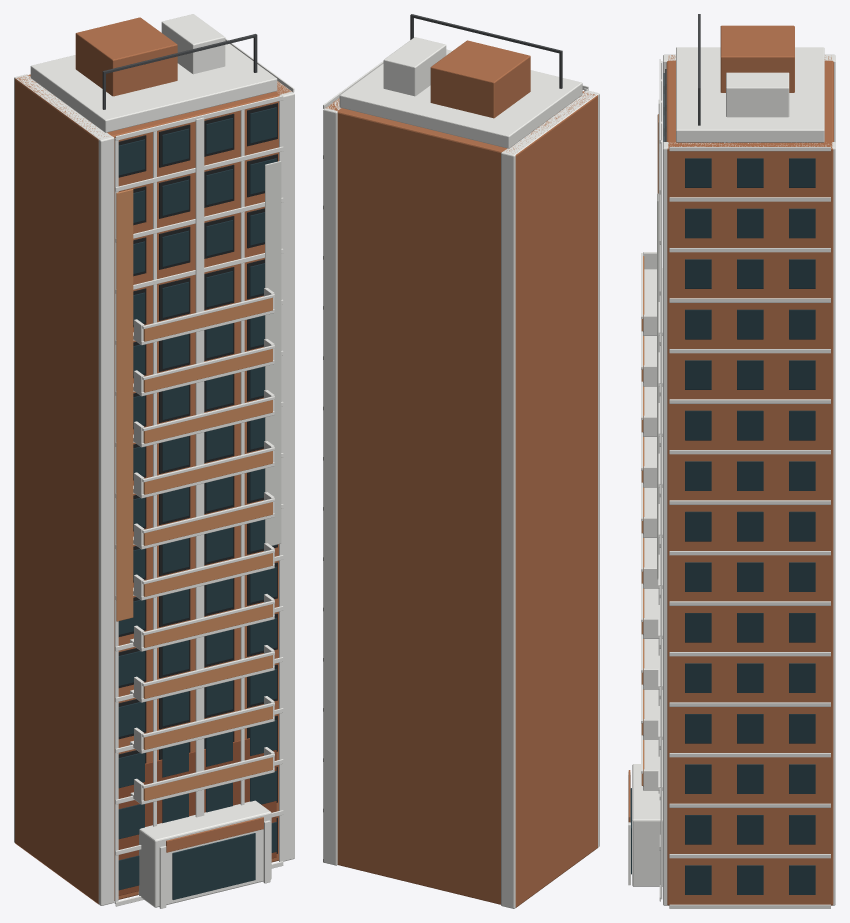
File: building3.fbx
3 renders of one model, left to right at view 1: azimuth 30°, elevation 25°; view 2: azimuth 150°, elevation 25°; view 3: azimuth 270°, elevation 25°, orthographic.
Visible parts, largest first — view 1: Main_Brick_Building, Left_White_Column, Right_White_Column, Roof_Base, Left_Brick_Feature, Roof_Brick_Room, Right_White_Feature, Entrance_White_Frame, Central_White_Spine, Entrance_Glass, Lower_Brick_Section, Vertical_White_Frame_0 (+60 smaller); view 2: Main_Brick_Building, Left_White_Column, Right_White_Column, Roof_Base, Roof_Brick_Room, Roof_White_Room, Roof_Frame_Top; view 3: Main_Brick_Building, Roof_Base, Right_White_Column, Roof_Brick_Room, Entrance_White_Frame, Roof_White_Room, Vertical_White_Frame_4, Right_Side_Window_11_0, Right_Side_Window_11_1, Right_Side_Window_11_2, Right_Side_Window_13_0, Right_Side_Window_13_1 (+69 smaller).
Part boxes in pixels (x1,y1,x2,y2): Main_Brick_Building: [15, 74, 291, 904]; Left_White_Column: [14, 74, 114, 905]; Right_White_Column: [277, 81, 294, 861]; Roof_Base: [30, 44, 277, 132]; Left_Brick_Feature: [116, 189, 133, 621]; Roof_Brick_Room: [75, 17, 177, 96]; Right_White_Feature: [265, 161, 281, 545]; Entrance_White_Frame: [138, 800, 271, 907]; Central_White_Spine: [195, 117, 204, 817]; Entrance_Glass: [172, 833, 255, 899]; Lower_Brick_Section: [118, 738, 276, 895]; Vertical_White_Frame_0: [114, 138, 118, 903]; Main_Brick_Building: [326, 91, 597, 907]; Left_White_Column: [501, 90, 599, 908]; Right_White_Column: [323, 98, 340, 865]; Roof_Base: [339, 49, 582, 148]; Roof_Brick_Room: [430, 40, 530, 118]; Roof_White_Room: [383, 37, 446, 96]; Roof_Frame_Top: [410, 14, 562, 53]; Main_Brick_Building: [666, 55, 833, 905]; Roof_Base: [676, 47, 824, 142]; Right_White_Column: [663, 142, 835, 905]; Roof_Brick_Room: [720, 25, 794, 92]; Entrance_White_Frame: [632, 764, 662, 886]; Roof_White_Room: [726, 72, 789, 117]; Vertical_White_Frame_4: [660, 140, 662, 899]; Right_Side_Window_11_0: [685, 309, 711, 339]; Right_Side_Window_11_1: [737, 309, 763, 339]; Right_Side_Window_11_2: [789, 309, 815, 339]; Right_Side_Window_13_0: [685, 208, 711, 238]; Right_Side_Window_13_1: [737, 208, 763, 238].
Size of what is drawn, in the model's own units: 1212 by 4812 by 1117.
